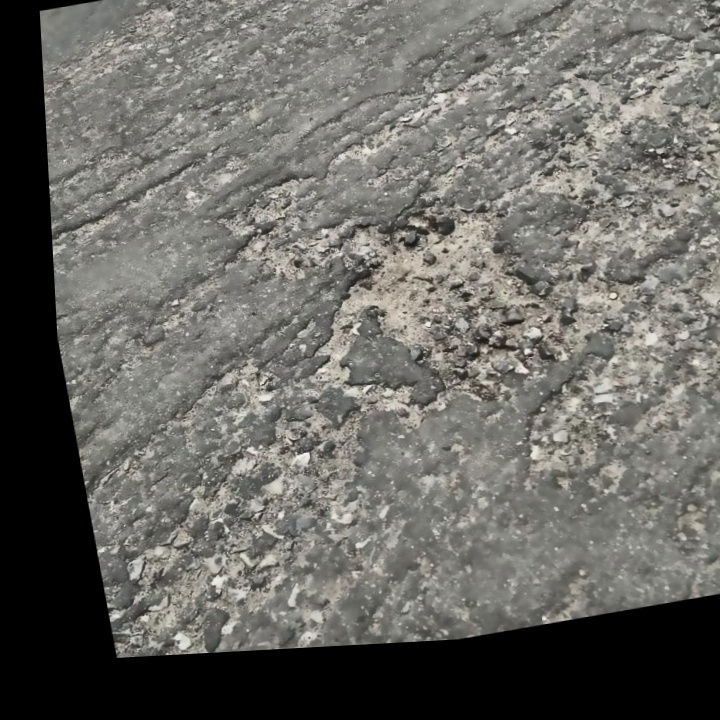pothole: (312, 180, 572, 413)
